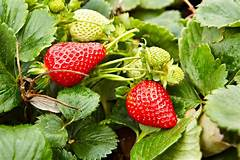Fresa: (40, 38, 112, 90), (122, 75, 182, 132)
